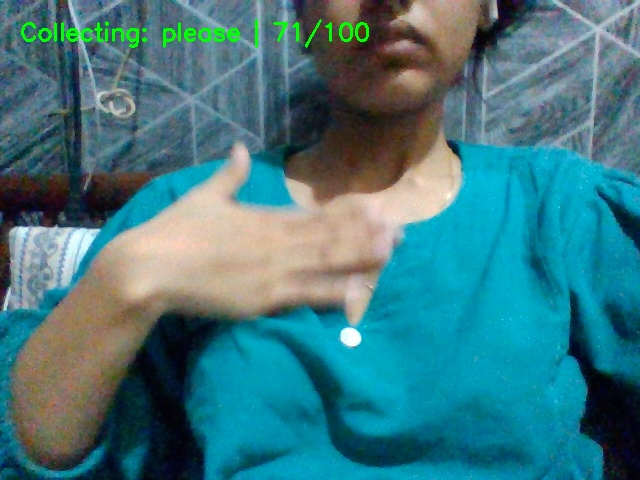please: (108, 126, 433, 357)
